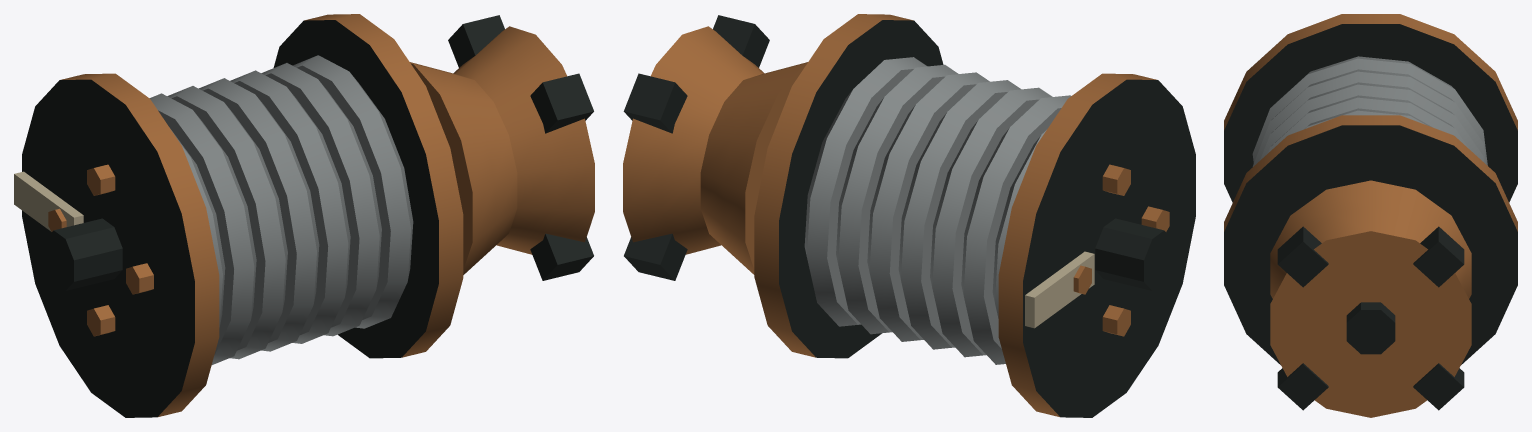
File: grapple_rivet_drive.glb
3 renders of one model, left to right at view 1: azimuth 30°, elevation 25°; view 2: azimuth 150°, elevation 25°; view 3: azimuth 270°, elevation 25°, orthographic. The views are drawn at different scales.
Parts seen in each view (by area): view 1: Drive; view 2: Drive; view 3: Drive.
Boxes of the visible parts, x1,y1,x2,y2 form: Drive: (14, 14, 594, 417); Drive: (623, 14, 1195, 417); Drive: (1224, 14, 1517, 417).
Size of the model in its own units: 0.405 by 0.2452 by 0.2452.
